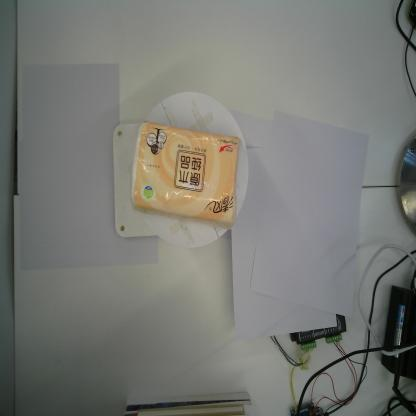Tissue: (131, 121, 240, 230)
